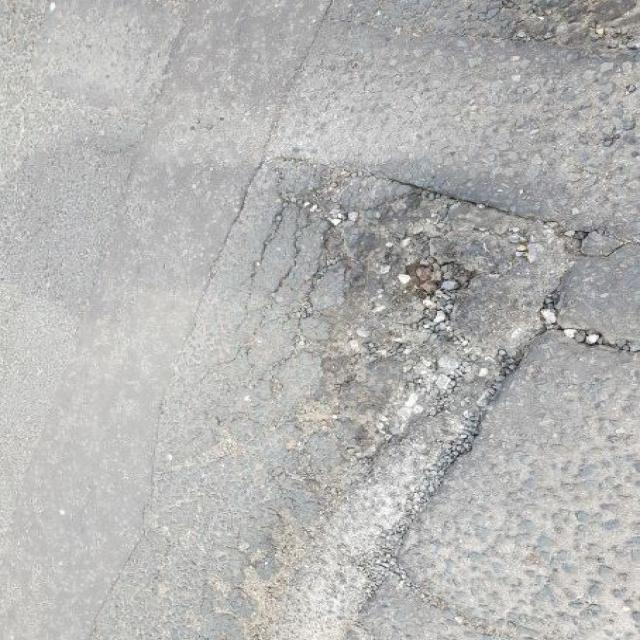Pothole: (274, 161, 610, 500)
